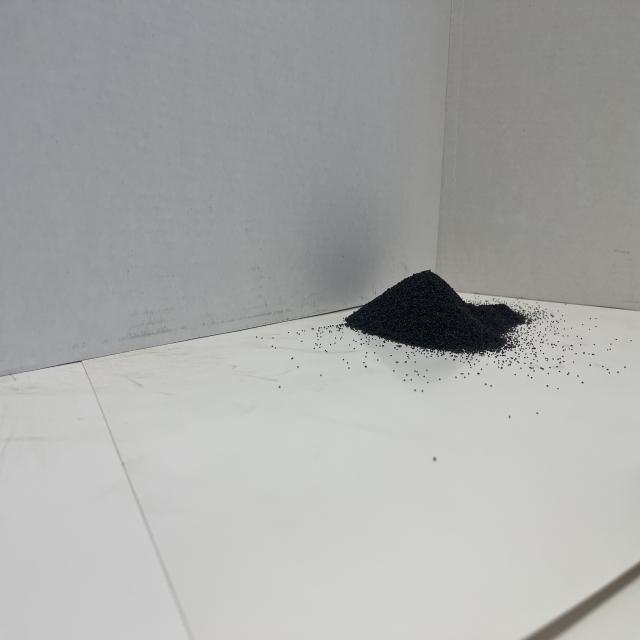Poppy Seeds: (347, 257, 522, 383)
